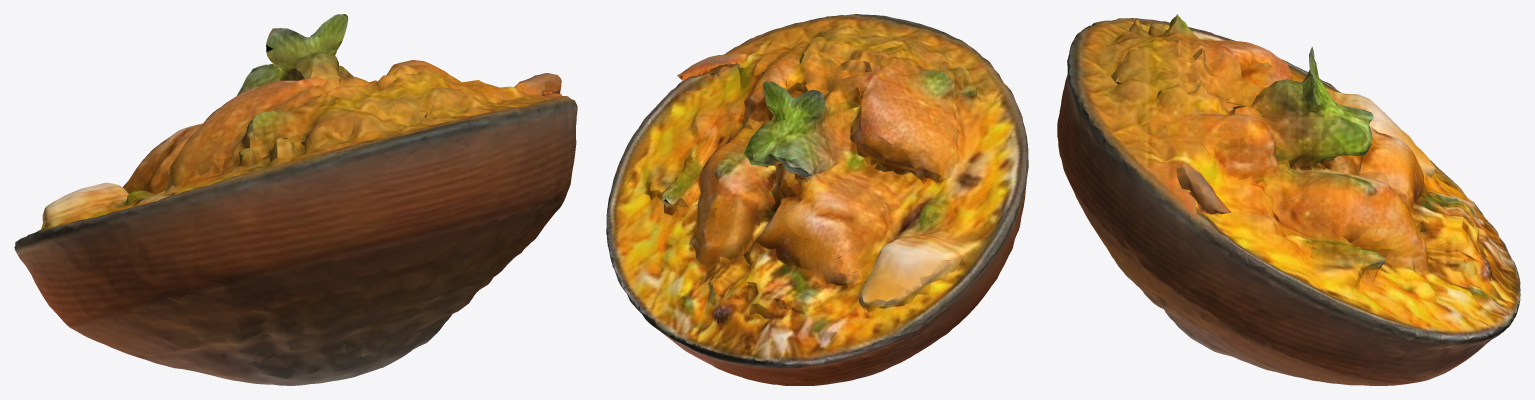
The model's file is biryani.glb.
3 views of the same model, side by side, from view 1: azimuth 30°, elevation 25°; view 2: azimuth 150°, elevation 25°; view 3: azimuth 270°, elevation 25° (orthographic). The views are drawn at different scales.
Parts seen in each view (by area): view 1: world; view 2: world; view 3: world.
Boxes of the visible parts, box(x1,y1,x2,y2) form: world: box(14, 14, 577, 385); world: box(606, 14, 1028, 385); world: box(1057, 14, 1520, 385).
Size of the model in its own units: 0.923 by 0.5934 by 0.8229.
Materials: 1 (1 with a texture image).
